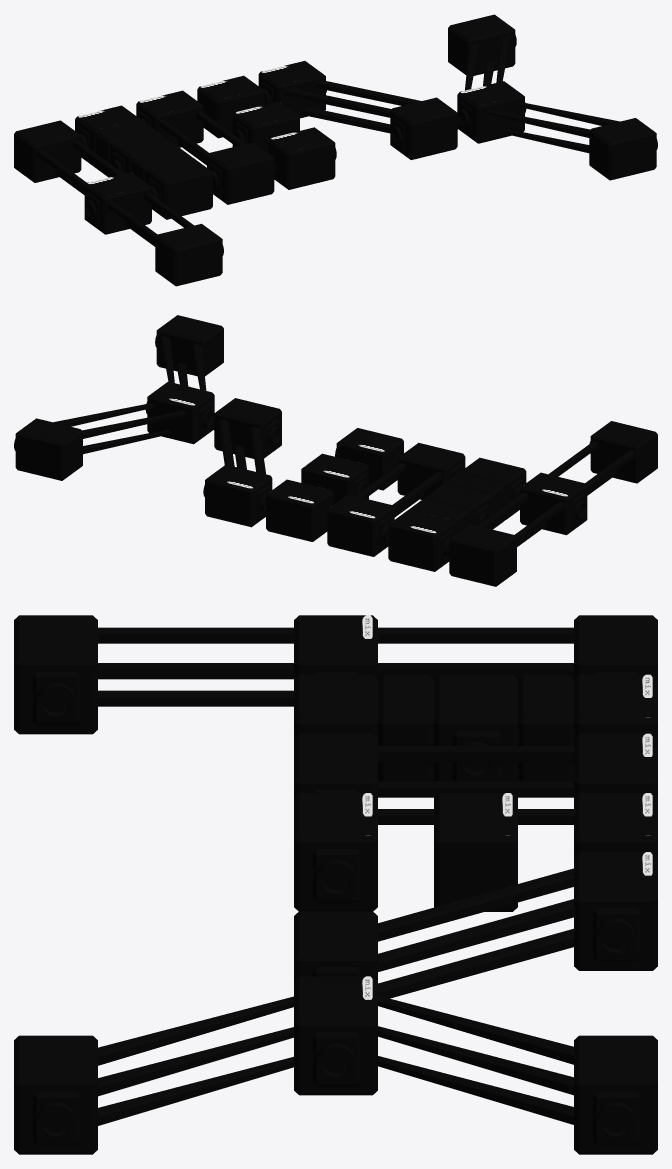
File: nodes.glb
3 renders of one model, top to bottom at view 1: azimuth 30°, elevation 25°; view 2: azimuth 150°, elevation 25°; view 3: azimuth 270°, elevation 25°, orthographic. The views are drawn at different scales.
Visible parts, largest first — view 1: Prism, Split, Swap, Collect, Mix2, Bolt, IngotNode, Nut; view 2: Prism, Split, Collect, Swap, Mix2, IngotNode, Bolt, Nut; view 3: Prism, Split, Collect, Swap, Mix2, Bolt, Nut, IngotNode.
Part boxes in pixels (bbox=[...]): Prism: bbox=[448, 14, 657, 180]; Split: bbox=[14, 120, 223, 286]; Swap: bbox=[258, 61, 458, 159]; Collect: bbox=[75, 105, 212, 219]; Mix2: bbox=[136, 90, 275, 204]; Bolt: bbox=[268, 127, 336, 189]; IngotNode: bbox=[197, 75, 264, 138]; Nut: bbox=[232, 101, 299, 152]; Prism: bbox=[14, 315, 223, 480]; Split: bbox=[448, 421, 657, 586]; Collect: bbox=[388, 457, 526, 571]; Swap: bbox=[203, 398, 281, 527]; Mix2: bbox=[327, 442, 465, 556]; IngotNode: bbox=[266, 479, 333, 541]; Bolt: bbox=[335, 428, 403, 490]; Nut: bbox=[301, 453, 368, 504]; Prism: bbox=[14, 976, 657, 1154]; Split: bbox=[14, 615, 657, 734]; Collect: bbox=[294, 674, 657, 781]; Swap: bbox=[294, 852, 657, 998]; Mix2: bbox=[294, 733, 657, 824]; Bolt: bbox=[294, 793, 377, 911]; Nut: bbox=[434, 793, 517, 911]; IngotNode: bbox=[574, 793, 657, 856].
Bounding box in the file's own units: 8.07 × 0.6 × 4.6.
Materials: 1 (1 with a texture image).
